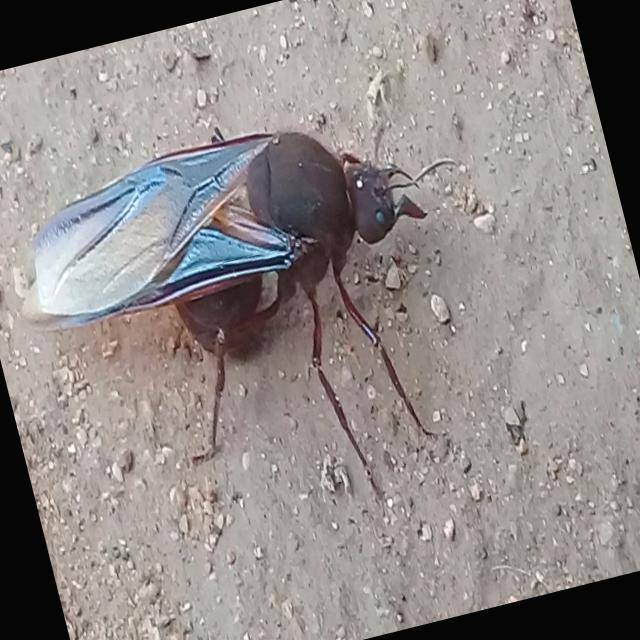Alive-Female-Alate: (0, 71, 532, 578)
